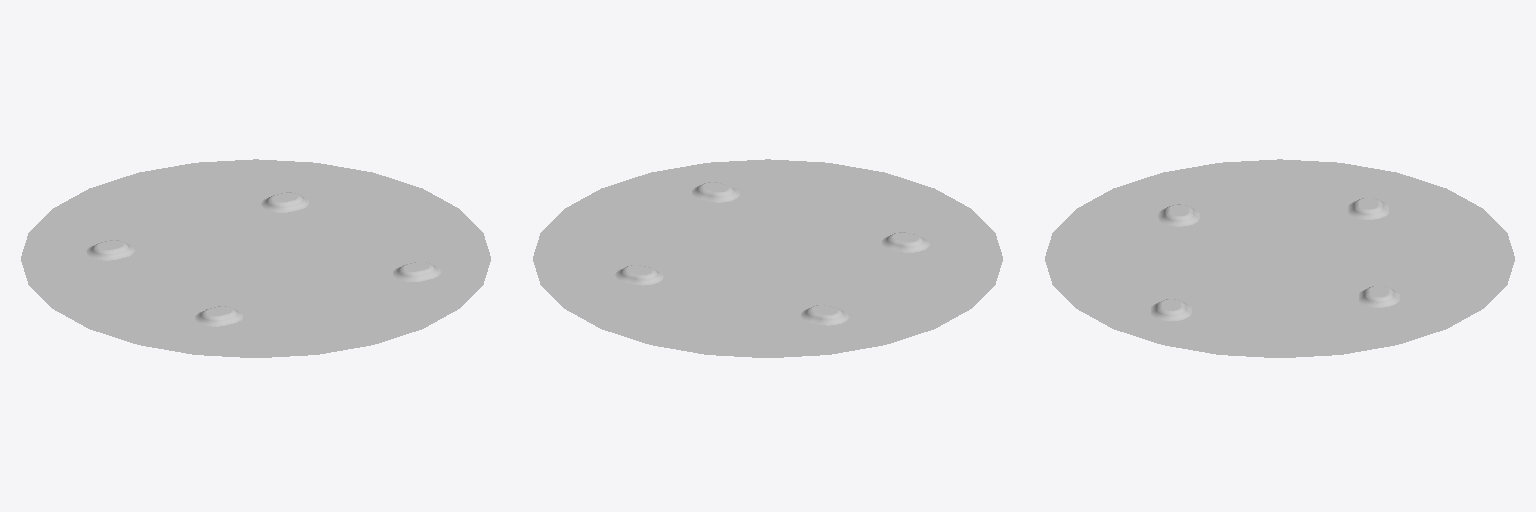
Rendered from ArenaNoWall.obj.
3 renders of one model, left to right at view 1: azimuth 30°, elevation 25°; view 2: azimuth 150°, elevation 25°; view 3: azimuth 270°, elevation 25°, orthographic.
Visible parts, largest first — view 1: SketchUp_ID30, instance_0.001_ID13, instance_2.001_ID13, instance_3.001_ID13, instance_4.001_ID13; view 2: SketchUp_ID30, instance_2.001_ID13, instance_0.001_ID13, instance_3.001_ID13, instance_4.001_ID13; view 3: SketchUp_ID30, instance_2.001_ID13, instance_0.001_ID13, instance_3.001_ID13, instance_4.001_ID13.
Boxes of the visible parts, x1,y1,x2,y2 form: SketchUp_ID30: [21, 159, 490, 357]; instance_0.001_ID13: [86, 240, 134, 260]; instance_2.001_ID13: [195, 306, 242, 326]; instance_3.001_ID13: [261, 192, 308, 212]; instance_4.001_ID13: [393, 262, 440, 281]; SketchUp_ID30: [533, 159, 1002, 357]; instance_2.001_ID13: [882, 232, 929, 252]; instance_0.001_ID13: [801, 305, 848, 325]; instance_3.001_ID13: [615, 265, 663, 285]; instance_4.001_ID13: [692, 182, 739, 202]; SketchUp_ID30: [1045, 159, 1514, 357]; instance_2.001_ID13: [1158, 204, 1199, 226]; instance_0.001_ID13: [1348, 198, 1388, 219]; instance_3.001_ID13: [1359, 286, 1399, 307]; instance_4.001_ID13: [1151, 299, 1191, 320].
Bounding box in the file's own units: 135 × 1.82 × 135.